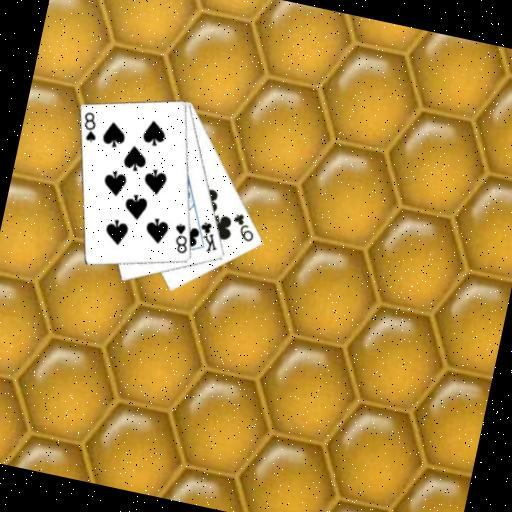8S: (167, 219, 194, 256), (76, 107, 103, 144)
9C: (227, 209, 260, 244)
KC: (188, 216, 223, 255)
